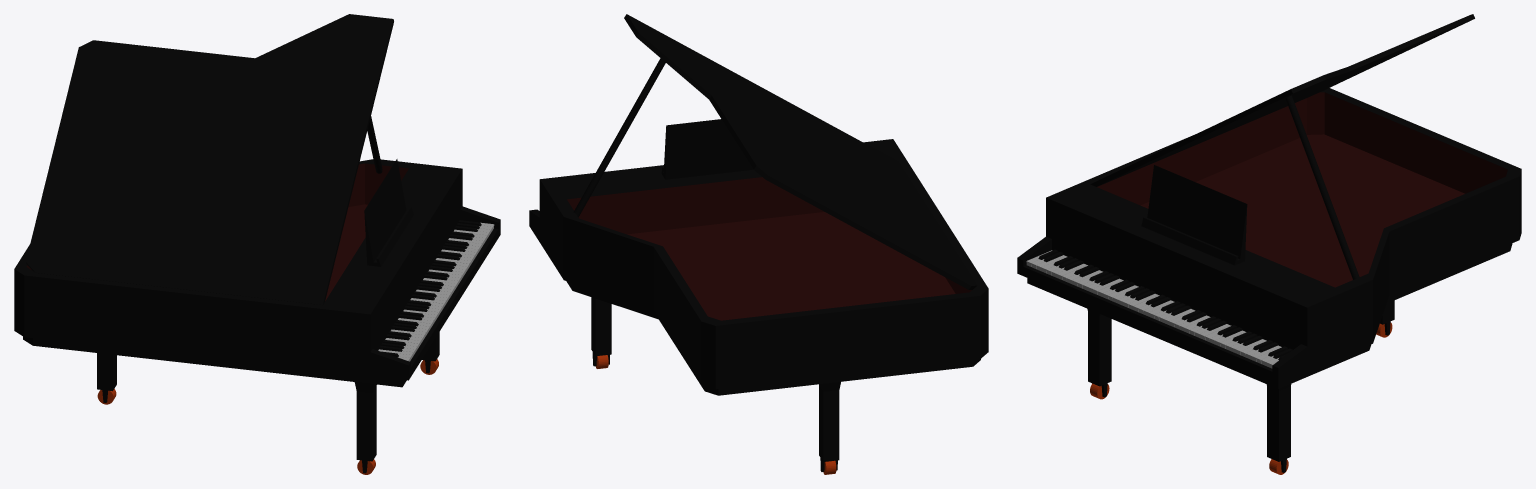
The model's file is piano.FBX.
3 renders of one model, left to right at view 1: azimuth 30°, elevation 25°; view 2: azimuth 150°, elevation 25°; view 3: azimuth 270°, elevation 25°, orthographic. The views are drawn at different scales.
Visible parts, largest first — view 1: piano; view 2: piano; view 3: piano.
Boxes of the visible parts, <box> form: piano: <box>14,14,500,474</box>; piano: <box>529,14,988,474</box>; piano: <box>1017,14,1521,474</box>.
Bounding box in the file's own units: 4.48 × 3.3 × 4.09.
